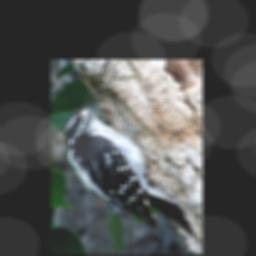Woodpecker: (61, 98, 197, 237)
